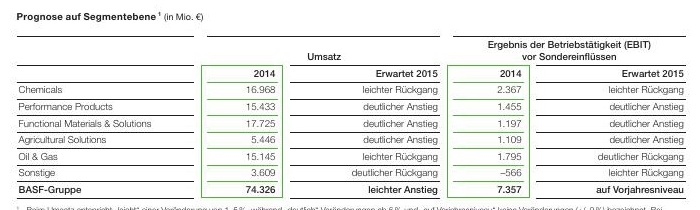table: (0, 0, 700, 210)
